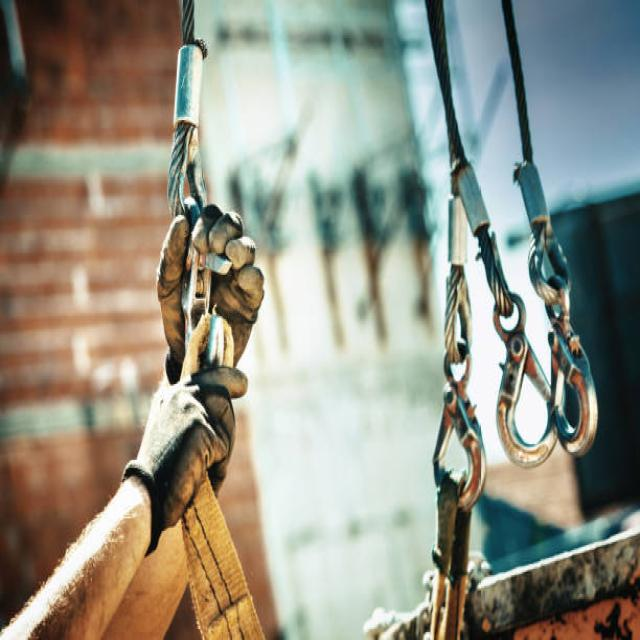gloves: (124, 368, 250, 555), (154, 194, 266, 386)
